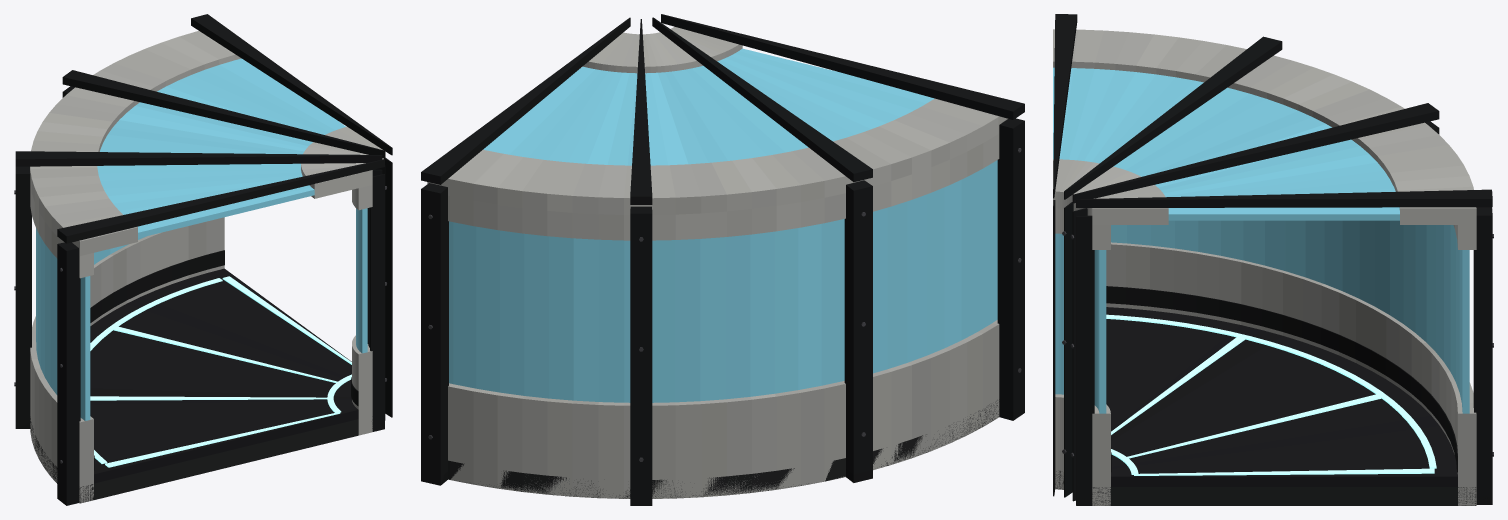
The model's file is chute_adv_h_turn_right.glb.
3 renders of one model, left to right at view 1: azimuth 30°, elevation 25°; view 2: azimuth 150°, elevation 25°; view 3: azimuth 270°, elevation 25°, orthographic. The views are drawn at different scales.
Visible parts, largest first — view 1: Frame, Power; view 2: Frame; view 3: Frame, Power.
Part boxes in pixels (x1=…): Frame: x1=14, y1=14, x2=392, y2=505; Power: x1=90, y1=276, x2=351, y2=467; Frame: x1=421, y1=14, x2=1024, y2=505; Frame: x1=1053, y1=14, x2=1493, y2=505; Power: x1=1106, y1=314, x2=1436, y2=475.
Bounding box in the file's own units: 1.91 × 1.46 × 1.91.
